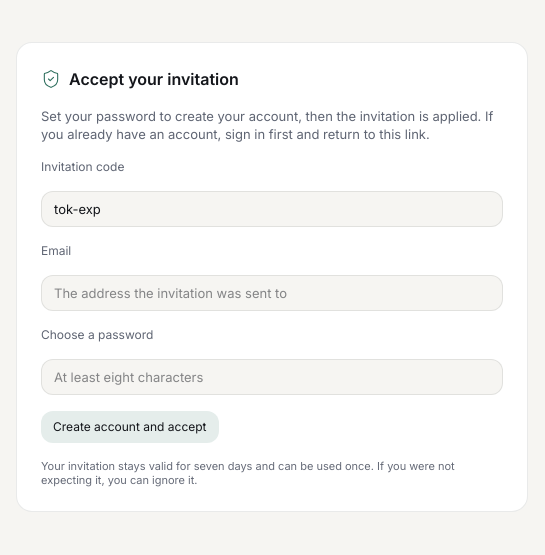
it: OA-20 member invitation acceptance (C2.4) › shows the database reason when the invitation cannot be accepted
This screenshot has width=545, height=555.
Type "late@example.test" into the field with test id "oa-accept-email".
click(272, 293); type("late@example.test")  # box [41,275,503,311]
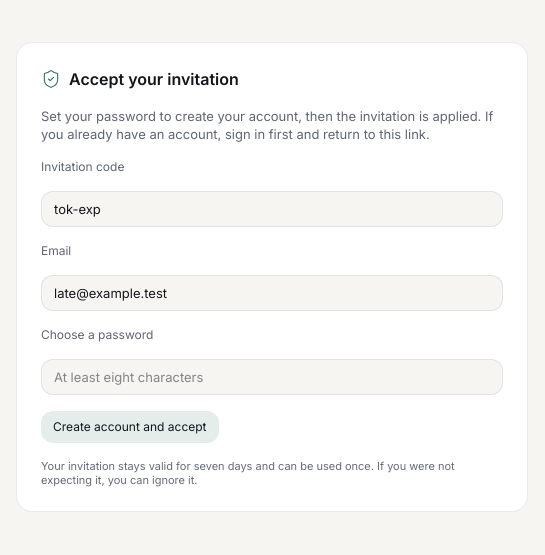
Type "a-long-enough-password" into the password field with test id "oa-accept-password".
click(272, 377); type("a-long-enough-password")  # box [41,359,503,395]
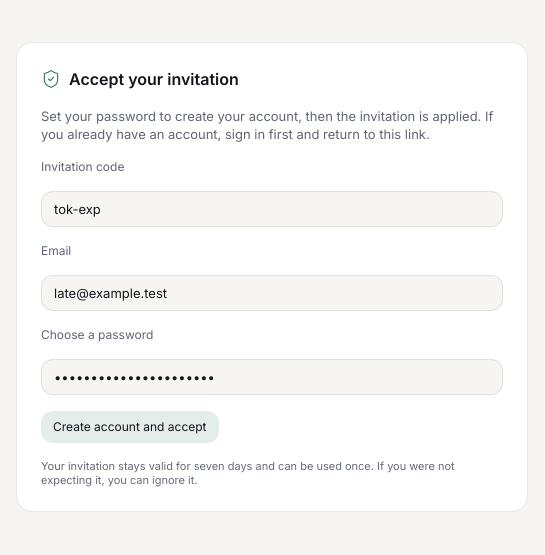
Click the button with test id "oa-accept-submit".
click(130, 427)  # box [41,411,218,443]
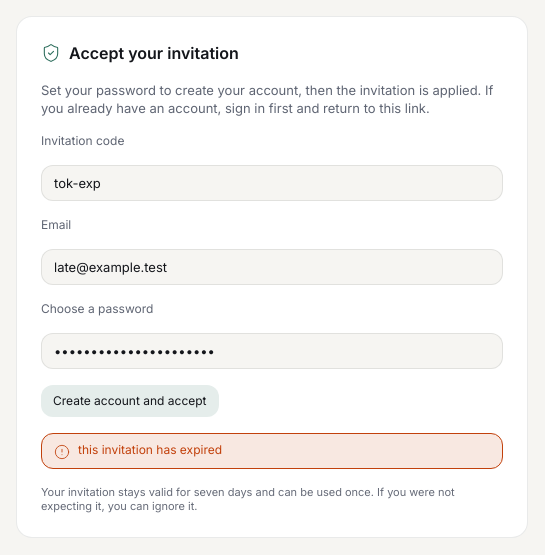
Result: the message with test id "oa-accept-error" shows "expired" at [78,442,222,457]
